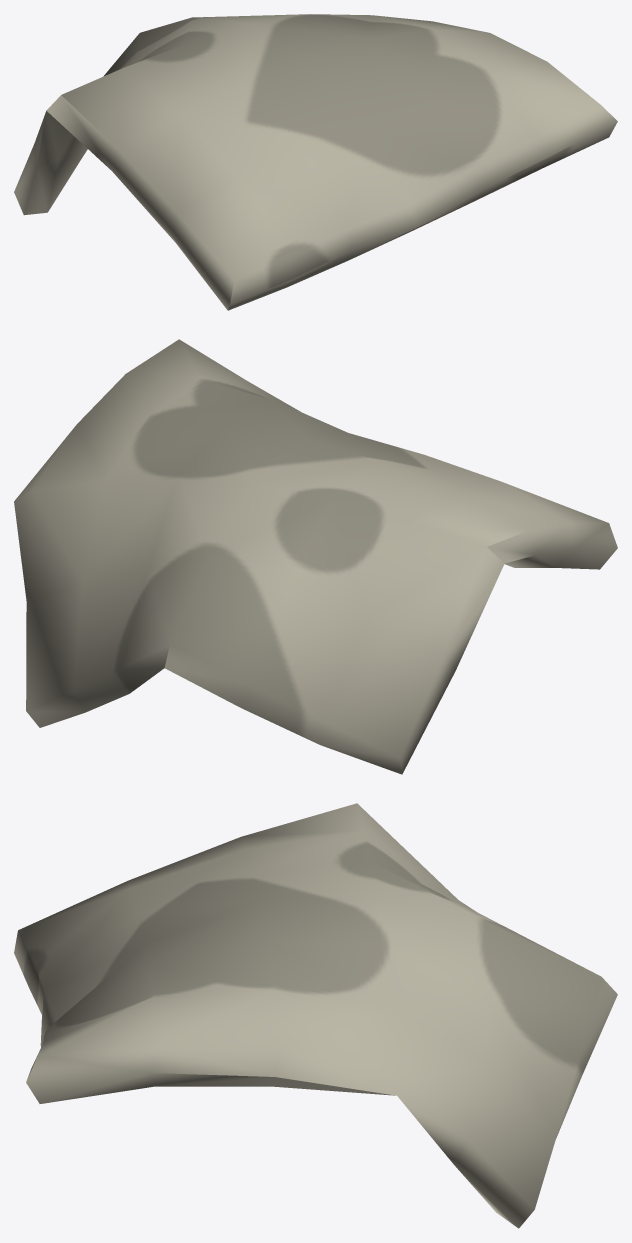
Rendered from p_mesh_destruct_toiletpaper.fbx.
3 renders of one model, top to bottom at view 1: azimuth 30°, elevation 25°; view 2: azimuth 150°, elevation 25°; view 3: azimuth 270°, elevation 25°, orthographic. The views are drawn at different scales.
Parts seen in each view (by area): view 1: hammer_bubblewrap_blendshape; view 2: hammer_bubblewrap_blendshape; view 3: hammer_bubblewrap_blendshape.
Part boxes in pixels (bbox=[...]): hammer_bubblewrap_blendshape: bbox=[14, 14, 617, 310]; hammer_bubblewrap_blendshape: bbox=[14, 339, 617, 774]; hammer_bubblewrap_blendshape: bbox=[14, 803, 617, 1228].
Size of the model in its own units: 1.74 by 0.7994 by 1.74.
